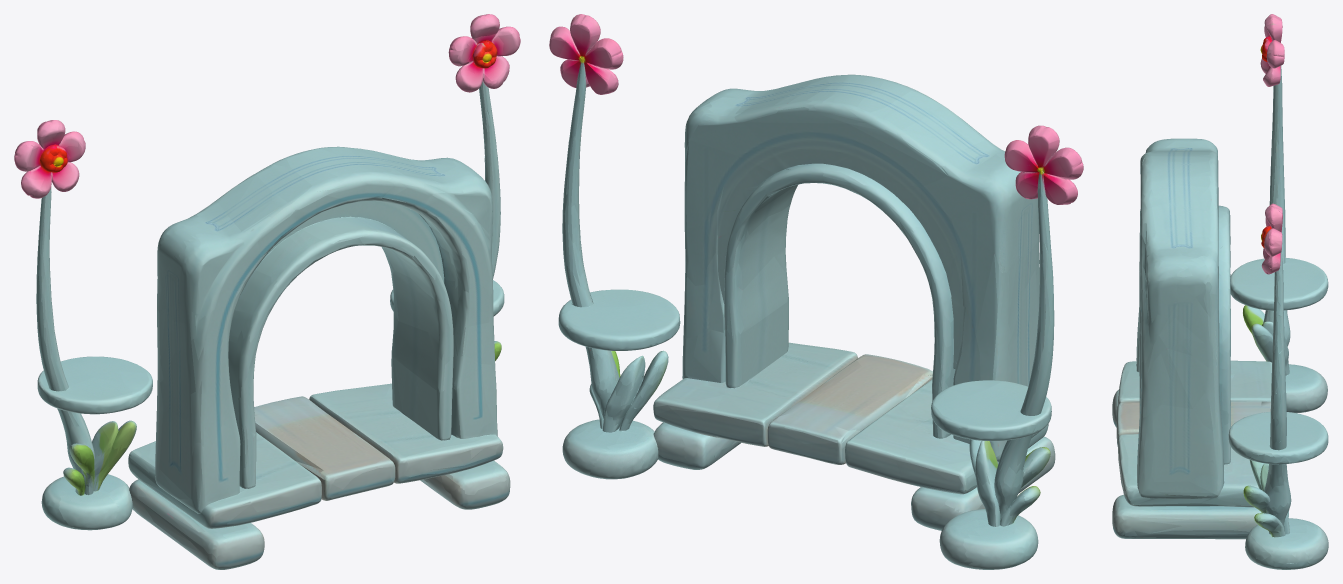
File: meshy-1795547188530.glb
3 renders of one model, left to right at view 1: azimuth 30°, elevation 25°; view 2: azimuth 150°, elevation 25°; view 3: azimuth 270°, elevation 25°, orthographic. The views are drawn at different scales.
Size of the model in its own units: 1.9 by 1.47 by 0.7921.
Materials: 1 (1 with a texture image).
